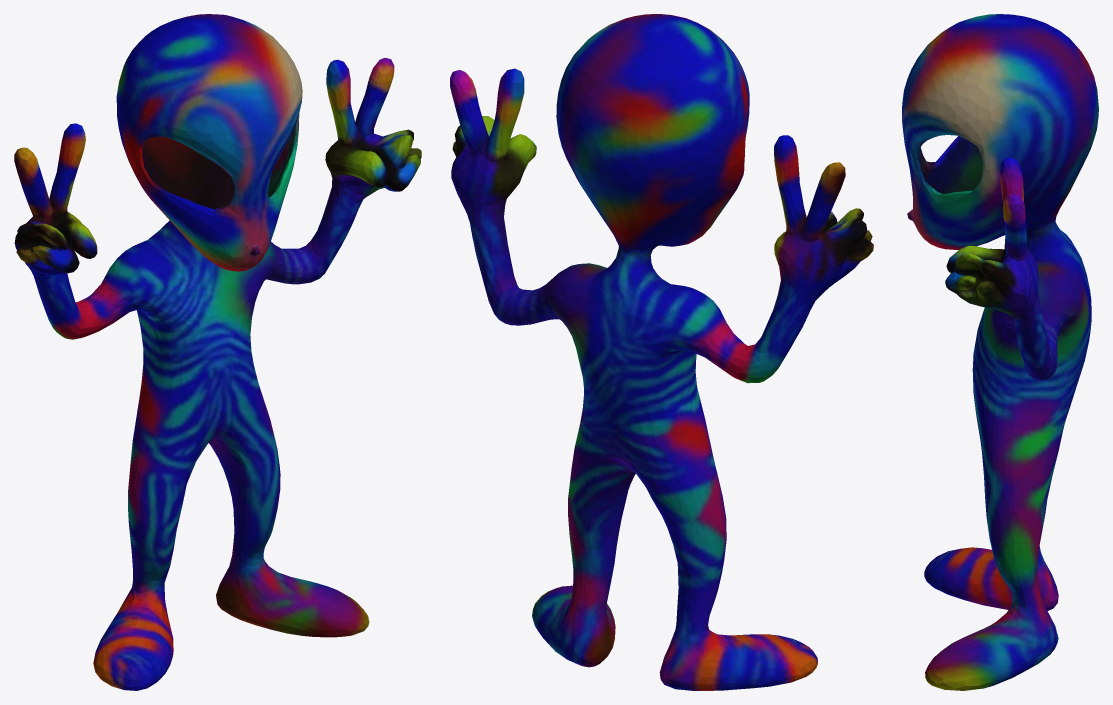
File: alien.glb
The picture shows the model from 3 angles, left to right: view 1: azimuth 30°, elevation 25°; view 2: azimuth 150°, elevation 25°; view 3: azimuth 270°, elevation 25°; orthographic projection. The views are drawn at different scales.
Visible parts, largest first — view 1: geometry_0; view 2: geometry_0; view 3: geometry_0.
Boxes of the visible parts, x1=… form: geometry_0: x1=14, y1=14, x2=421, y2=690; geometry_0: x1=450, y1=14, x2=873, y2=690; geometry_0: x1=902, y1=14, x2=1098, y2=690.
Size of the model in its own units: 0.687 by 0.9999 by 0.293.
Materials: 1 (1 with a texture image).
